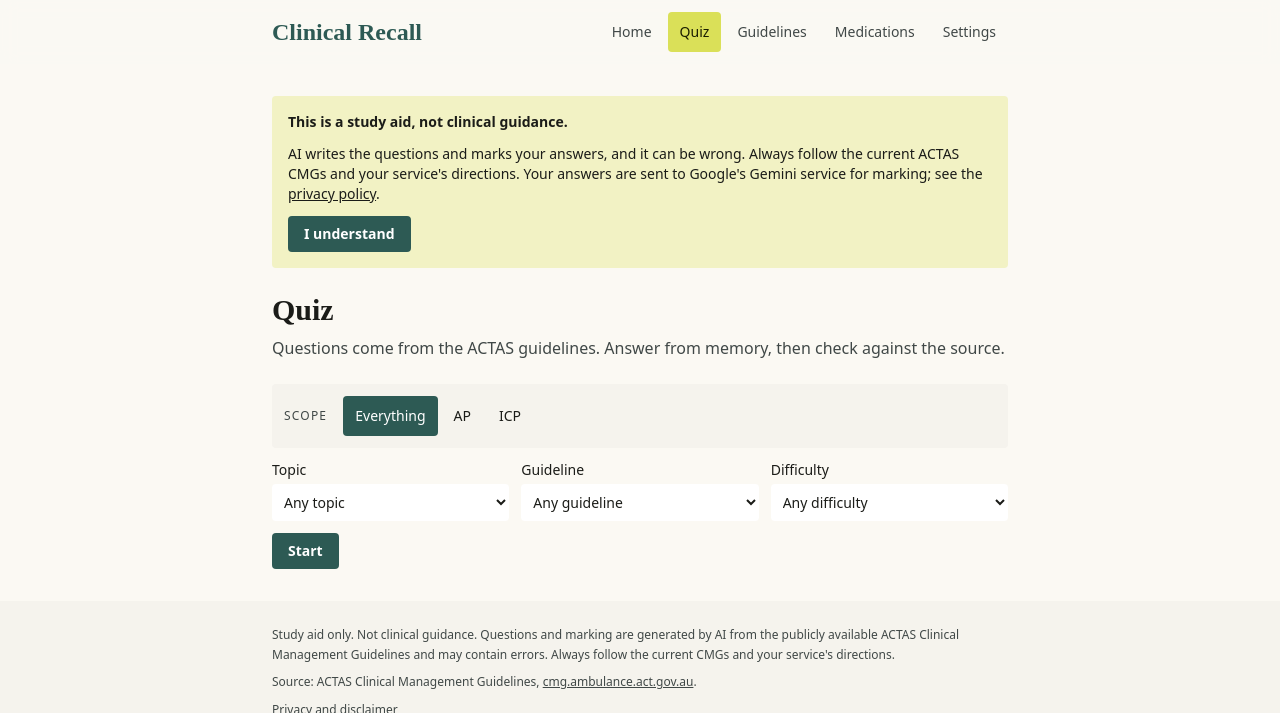
Test case: quiz › offers a generated question when the library runs out
The width and height of the screenshot is (1280, 713).
What coordinates should you click on to do the following:
click the button "Start"
I would click on:
 (305, 551)
Its box is [272,533,339,569].
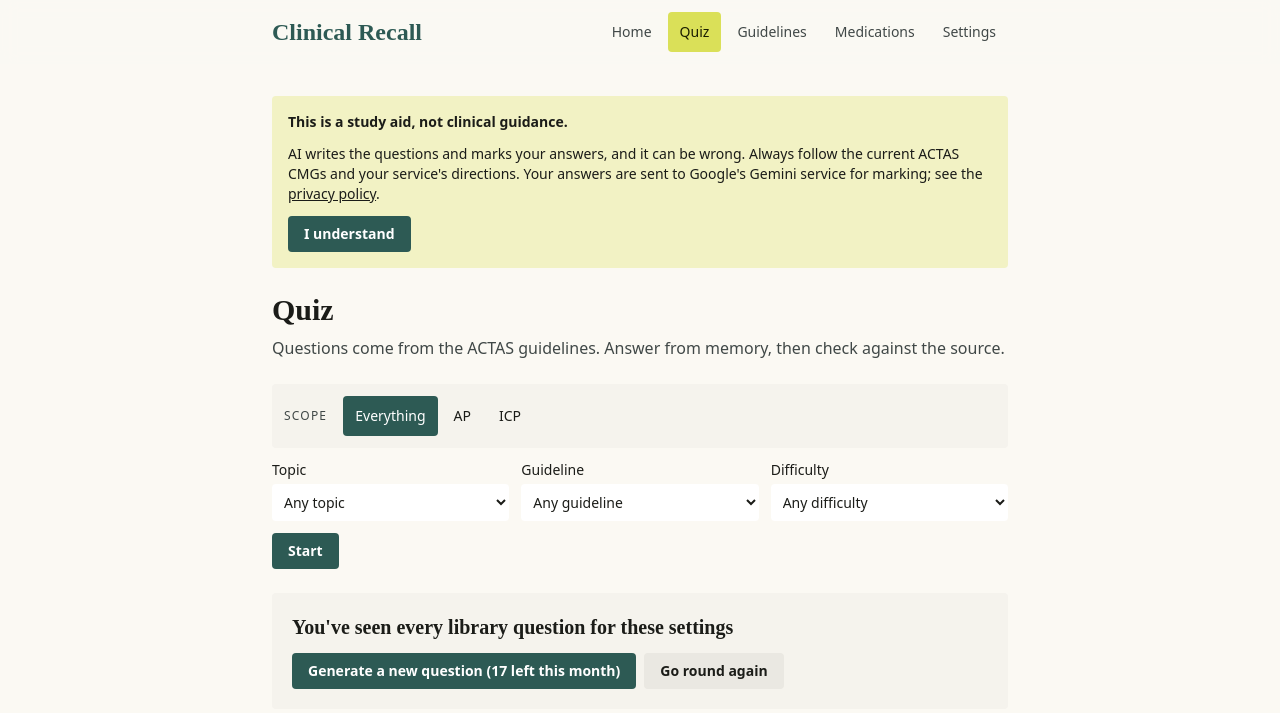
What coordinates should you click on to do the following:
click the button "Generate a new question (17 left this month)"
I would click on:
 (464, 671)
Its box is [292,653,636,689].
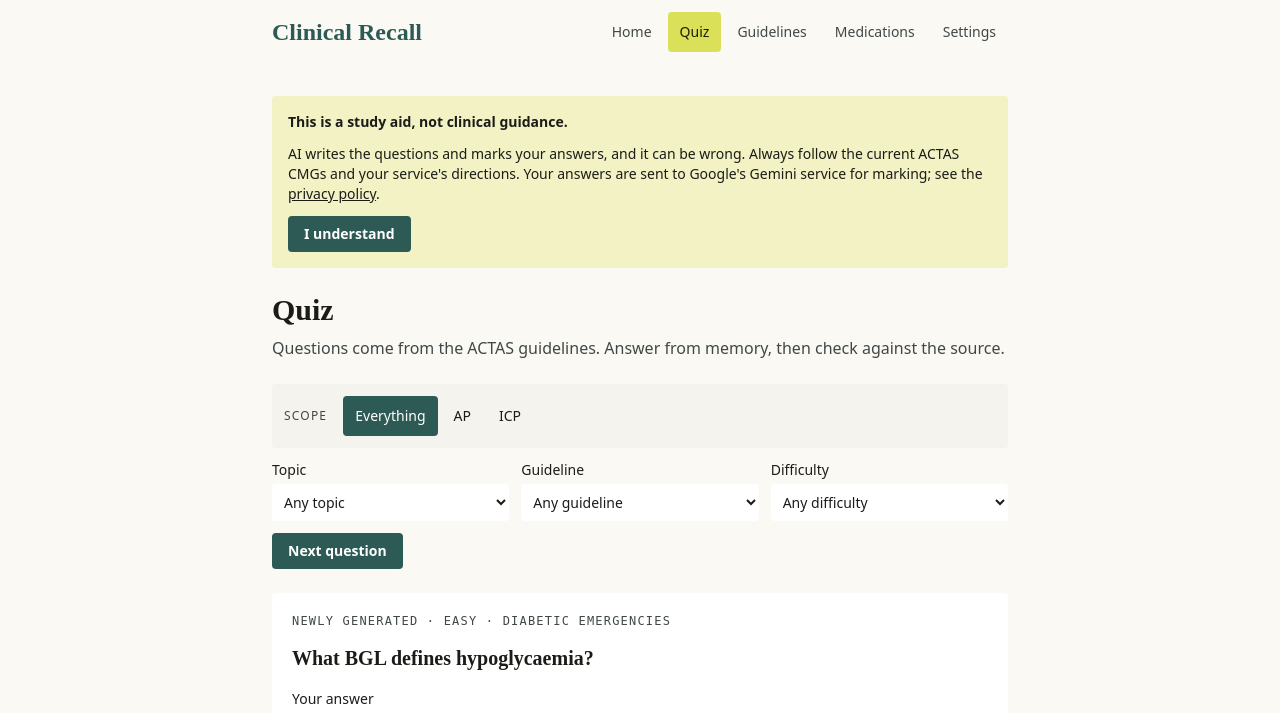
Check: the text "Newly generated · easy · Diabetic Emergencies" is shown, box [292,614,671,628]
